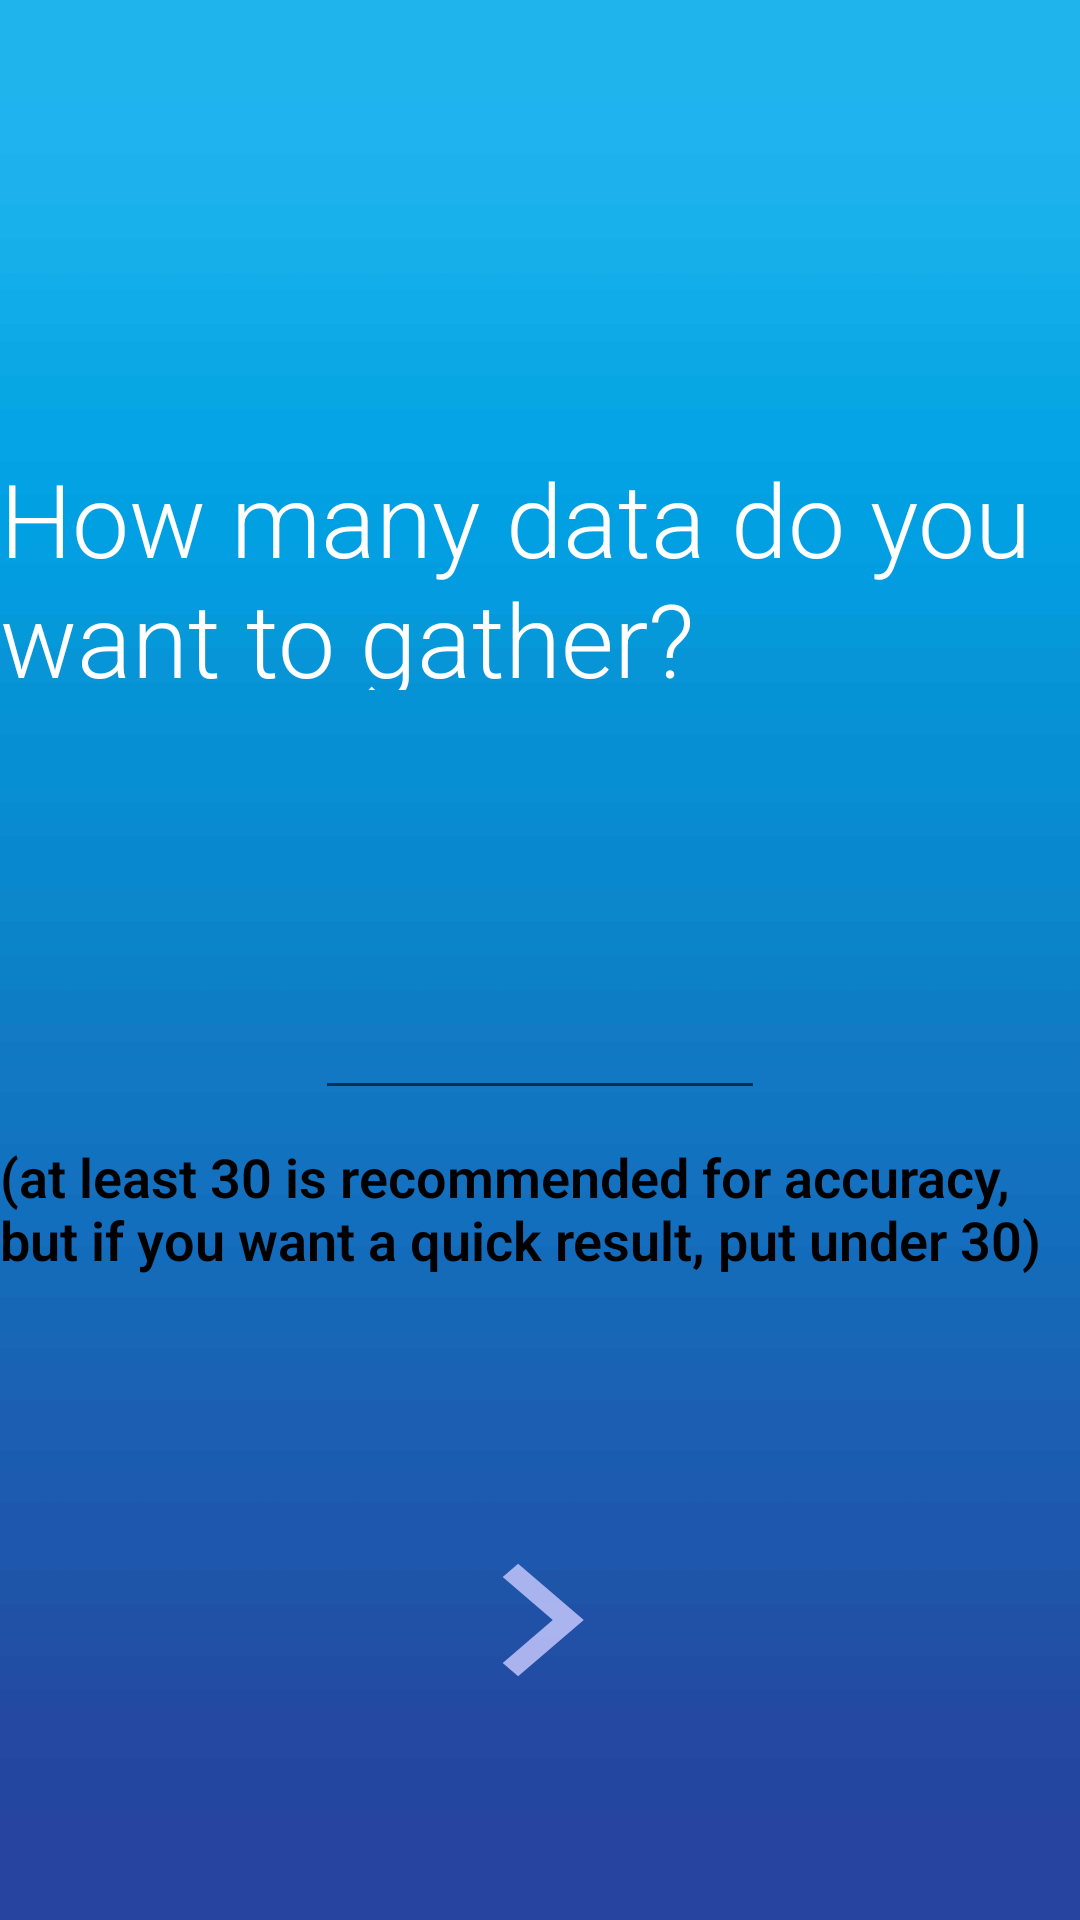

Screen size 1080x1920. Icon name, then its box in pixels as box(x1, y1, x2, y2):
nextppart: box(503, 1564, 584, 1676)
